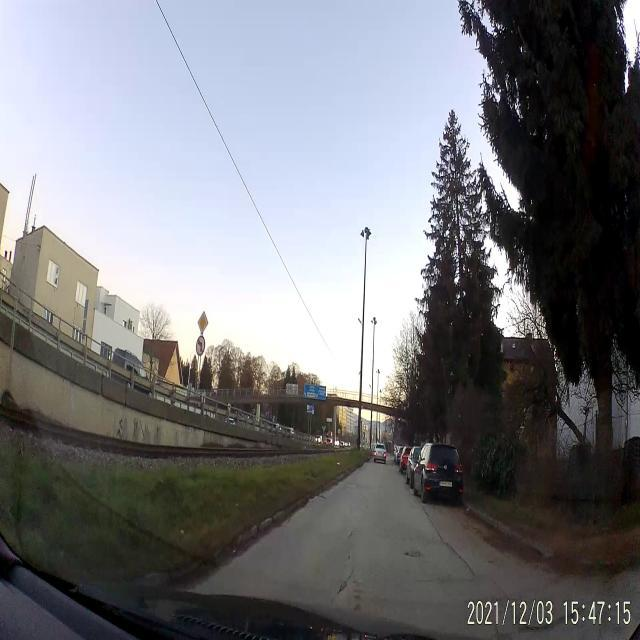Pothole: (402, 543, 424, 561)
